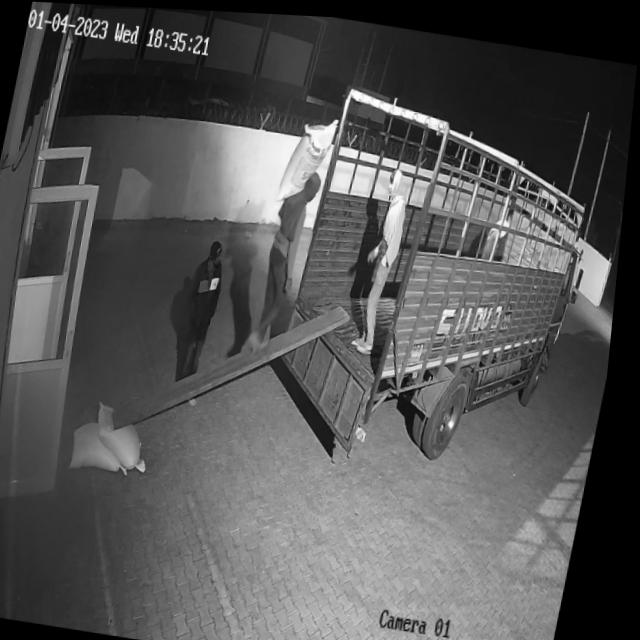sack: (278, 108, 339, 206), (95, 397, 166, 468), (75, 418, 144, 475)
